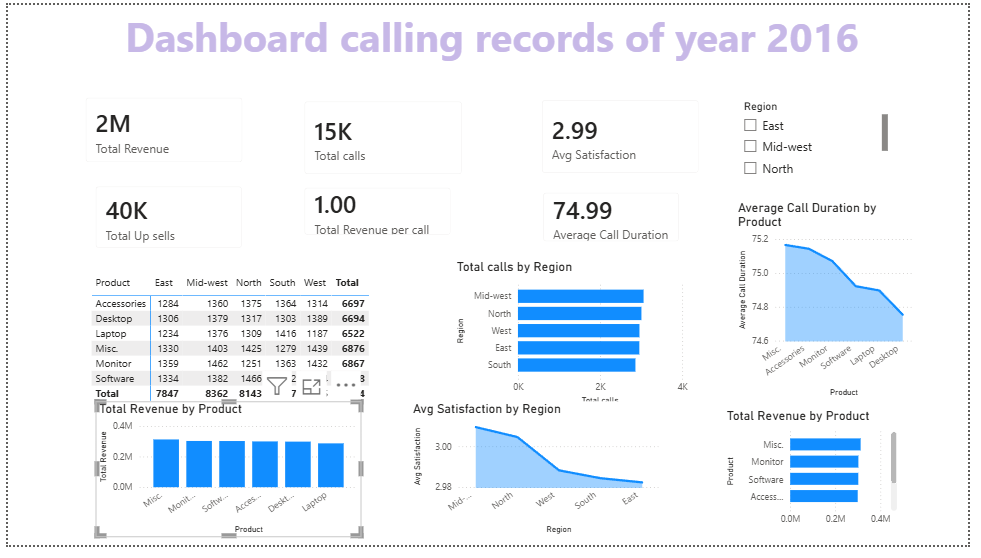

The dashboard page shown, as its layout file describes it:
{"tool":"powerbi","page":{"name":"Page 1","canvas":[1280,720],"ordinal":0},"visuals":[{"type":"image","box":[0,0,1280,719.6],"z":0},{"type":"cardVisual","fields":{"Data":["Measures (2).Total Revenue"]},"box":[64.1,149.1,279.7,102.3],"z":1000},{"type":"cardVisual","fields":{"Data":["Measures (2).Total calls"]},"box":[383.1,130.6,290.7,120.7],"z":2000},{"type":"cardVisual","fields":{"Data":["Measures (2).Avg Satisfaction"]},"box":[756.6,129.4,243.2,122.3],"z":3000},{"type":"cardVisual","fields":{"Data":["Measures (2).Average Call Duration"]},"box":[756.6,251.7,214.8,99.6],"z":4000},{"type":"cardVisual","fields":{"Data":["Measures (2).Total Up sells"]},"box":[64,251.7,280.2,106.7],"z":5000},{"type":"cardVisual","fields":{"Data":["Measures (2).Total Revenue per call"]},"box":[393,251.3,269.8,98.6],"z":6000},{"type":"pivotTable","fields":{"Rows":["calling data.Product"],"Values":["Sum(calling data.Qty of Up-sell)"],"Columns":["calling data.Region"]},"box":[75.4,354.1,384,183.5],"z":7000},{"type":"clusteredBarChart","fields":{"Category":["calling data.Region"],"Y":["Measures (2).Total calls"]},"box":[564.6,347,287.3,180.6],"z":8000},{"type":"columnChart","fields":{"Category":["calling data.Product"],"Y":["Measures (2).Total Revenue"]},"box":[64,543.3,354.1,176.4],"z":9000},{"type":"areaChart","fields":{"Category":["calling data.Region"],"Y":["Measures (2).Avg Satisfaction"]},"box":[493.5,543.3,338.5,167.8],"z":10000},{"type":"slicer","fields":{"Values":["calling data.Region"]},"box":[1075.2,163.6,106.7,136.5],"z":11000},{"type":"barChart","fields":{"Category":["calling data.Product"],"Y":["Measures (2).Total Revenue"]},"box":[890.3,543.3,305.8,166.4],"z":15000},{"type":"stackedAreaChart","fields":{"Category":["calling data.Product"],"Y":["Measures (2).Average Call Duration"]},"box":[873.2,362.7,337.1,166.4],"z":15500}]}

Visuals, with their boxes in screenshot pixels (x1, y1, x2, y2), scaled from the page's 1280x720 canvas onto the 981x558 screenshot:
image: 0:0:980:557
cardVisual - Measures (2).Total Revenue: 49:116:263:195
cardVisual - Measures (2).Total calls: 294:101:516:195
cardVisual - Measures (2).Avg Satisfaction: 580:100:766:195
cardVisual - Measures (2).Average Call Duration: 580:195:744:272
cardVisual - Measures (2).Total Up sells: 49:195:264:278
cardVisual - Measures (2).Total Revenue per call: 301:195:508:271
pivotTable - calling data.Product x Sum(calling data.Qty of Up-sell): 58:274:352:417
clusteredBarChart - calling data.Region x Measures (2).Total calls: 433:269:653:409
columnChart - calling data.Product x Measures (2).Total Revenue: 49:421:320:557
areaChart - calling data.Region x Measures (2).Avg Satisfaction: 378:421:638:551
slicer - calling data.Region: 824:127:906:233
barChart - calling data.Product x Measures (2).Total Revenue: 682:421:917:550
stackedAreaChart - calling data.Product x Measures (2).Average Call Duration: 669:281:928:410
